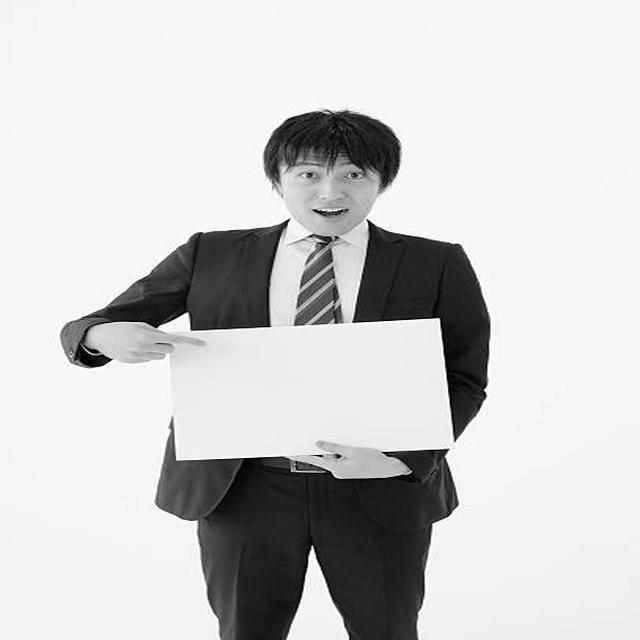Surprised: (279, 137, 380, 237)
